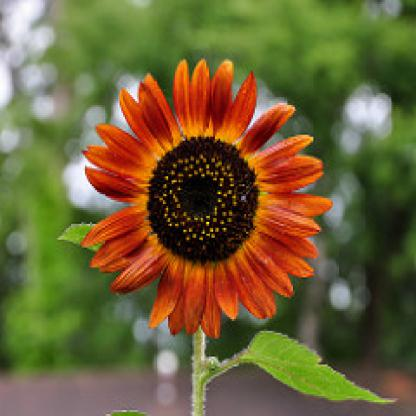SUN FLOWER: (51, 31, 351, 358)
